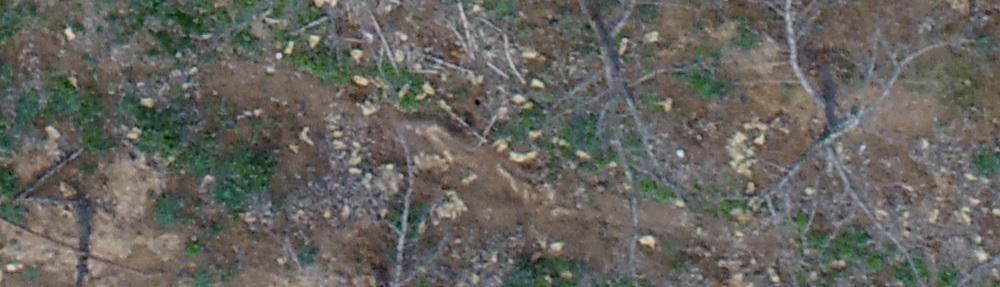apple: (754, 10, 972, 269), (506, 10, 716, 171)
